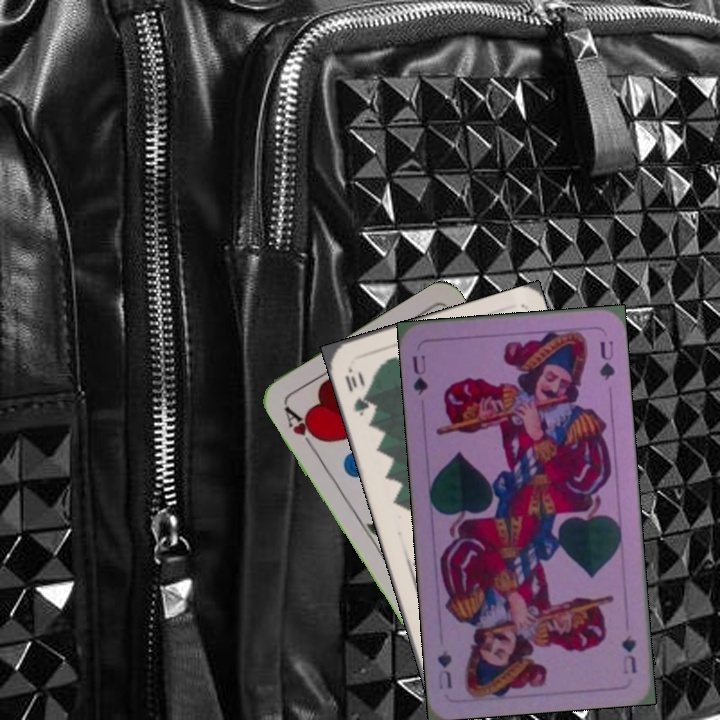G10: (341, 364, 373, 419)
GU: (409, 351, 431, 398), (618, 631, 639, 677)
HA: (280, 402, 323, 454)
